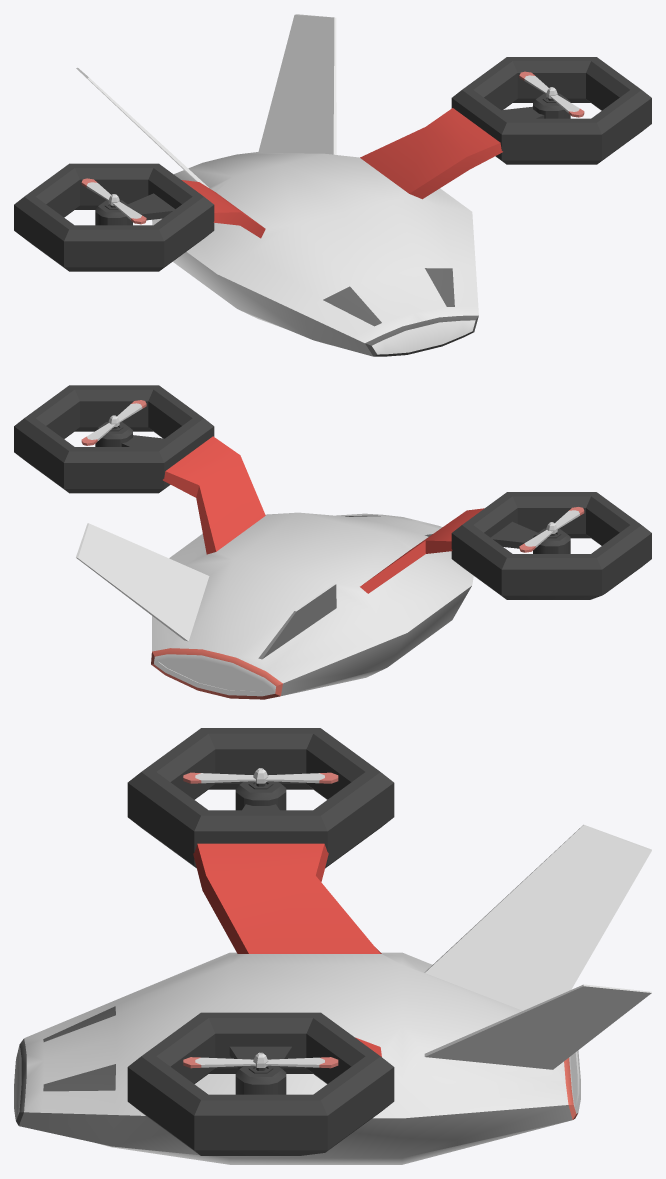
The model's file is ship_19.fbx.
The picture shows the model from 3 angles, top to bottom: view 1: azimuth 30°, elevation 25°; view 2: azimuth 150°, elevation 25°; view 3: azimuth 270°, elevation 25°; orthographic projection. The views are drawn at different scales.
Parts seen in each view (by area): view 1: body, engines, prop_1, prop_2; view 2: body, engines, prop_2, prop_1; view 3: body, engines, prop_1, prop_2.
Boxes of the visible parts, <box> form: body: <box>76,14,502,356</box>; engines: <box>14,57,651,271</box>; prop_1: <box>81,178,146,224</box>; prop_2: <box>519,71,584,117</box>; body: <box>76,436,484,699</box>; engines: <box>14,385,651,599</box>; prop_2: <box>81,400,146,445</box>; prop_1: <box>519,507,584,552</box>; body: <box>14,824,651,1164</box>; engines: <box>127,728,394,1155</box>; prop_1: <box>183,768,338,783</box>; prop_2: <box>183,1052,338,1068</box>.
Size of the model in its own units: 1198 by 318 by 845.
